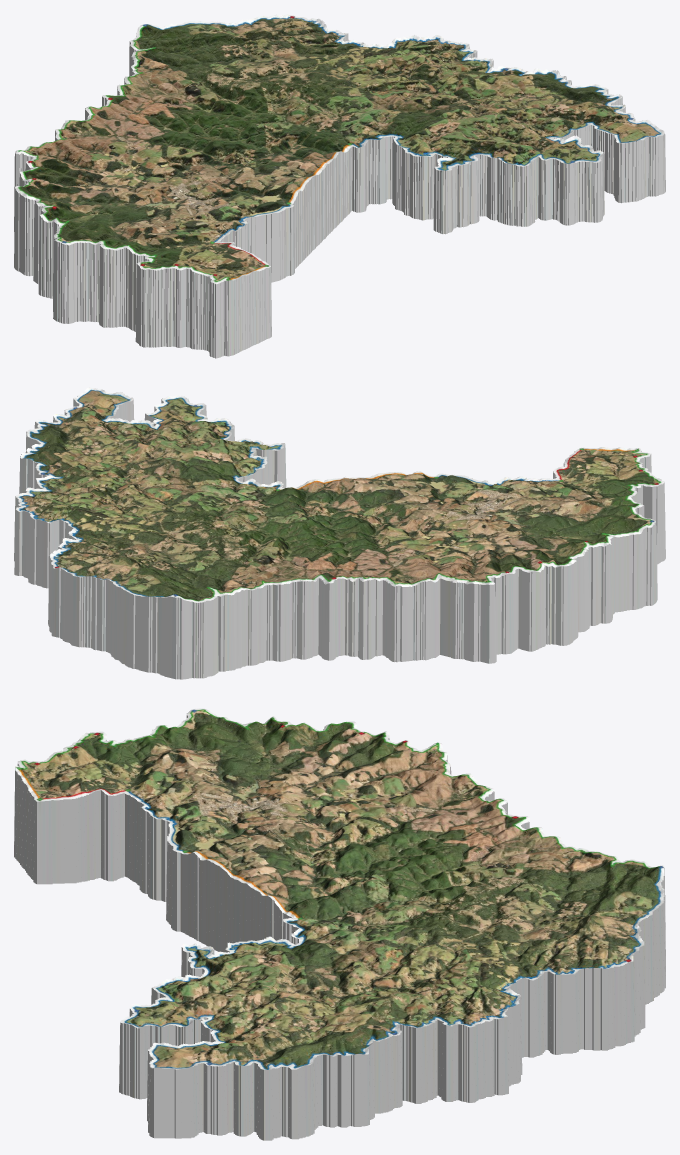
3 renders of one model, top to bottom at view 1: azimuth 30°, elevation 25°; view 2: azimuth 150°, elevation 25°; view 3: azimuth 270°, elevation 25°, orthographic. The views are drawn at different scales.
Size of the model in its own units: 1 by 0.1333 by 0.8101.
1 material, 1 textured.
